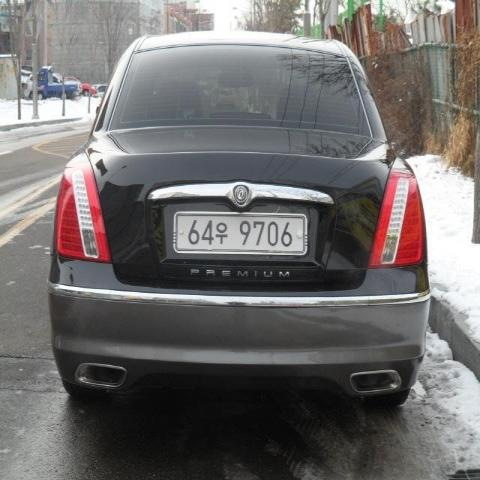LP: (174, 207, 310, 260)
